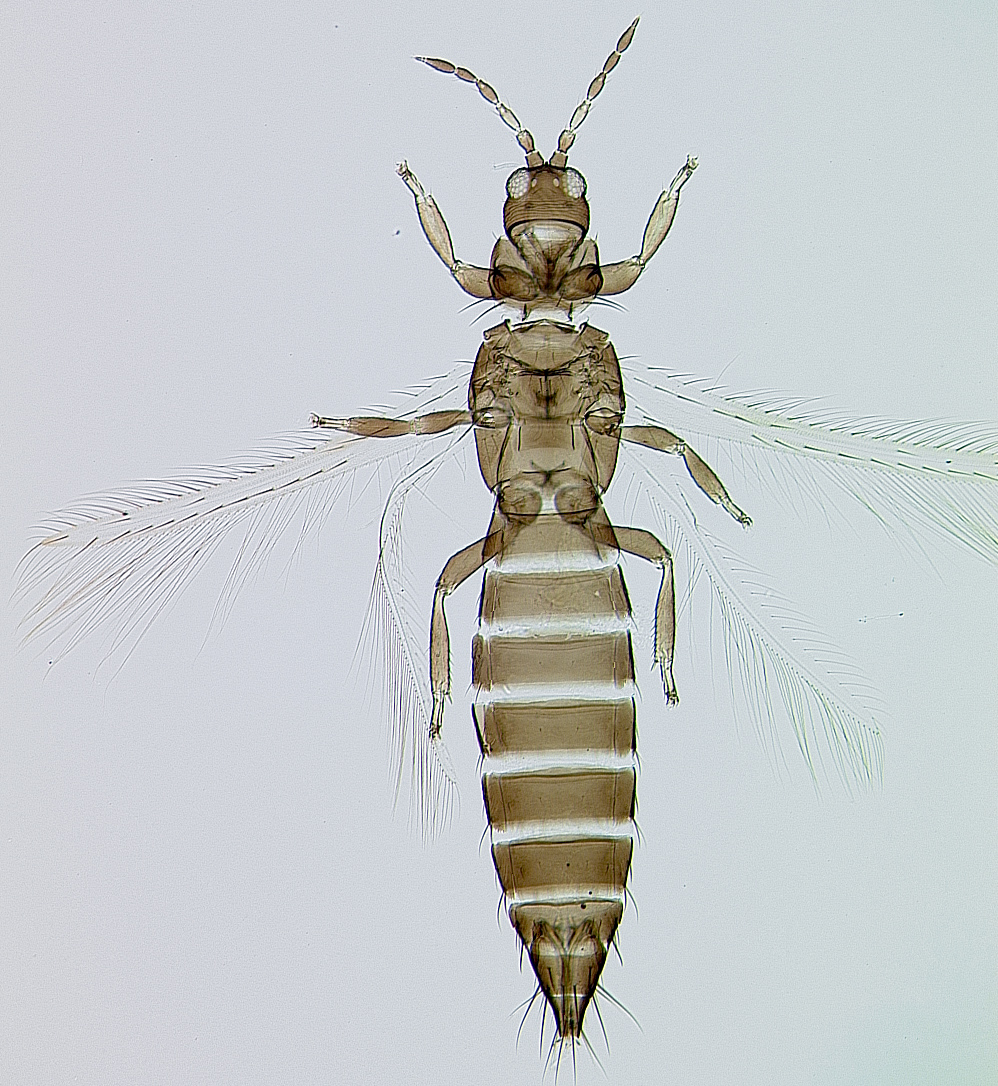Thripidae: (23, 15, 998, 1042)
